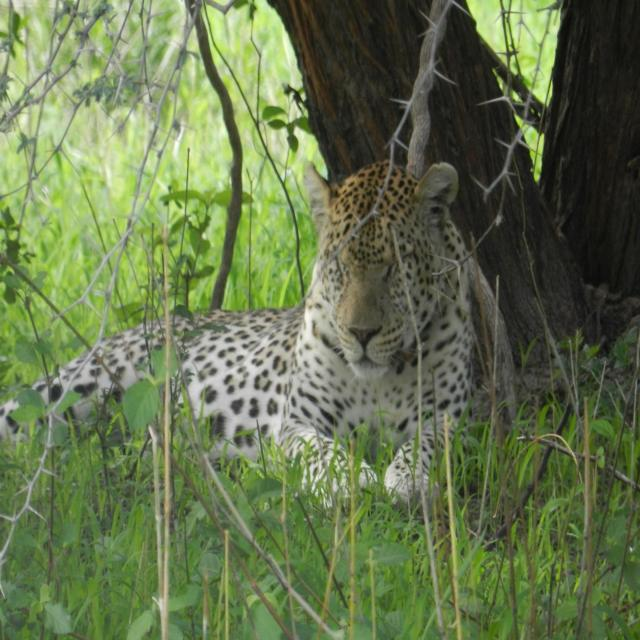Leopard: (1, 138, 473, 503)
